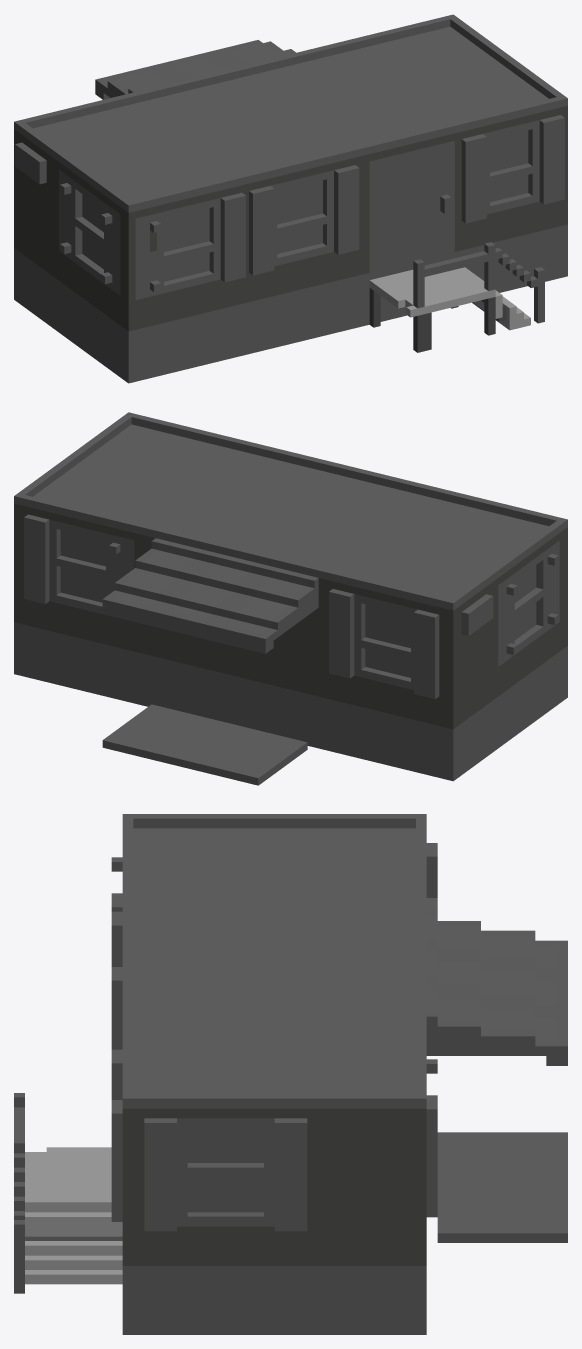
Rendered from bld_house6a.obj.
3 views of the same model, one above another, from view 1: azimuth 30°, elevation 25°; view 2: azimuth 150°, elevation 25°; view 3: azimuth 270°, elevation 25° (orthographic). The views are drawn at different scales.
Bounding box in the file's own units: 64 × 24 × 51.
